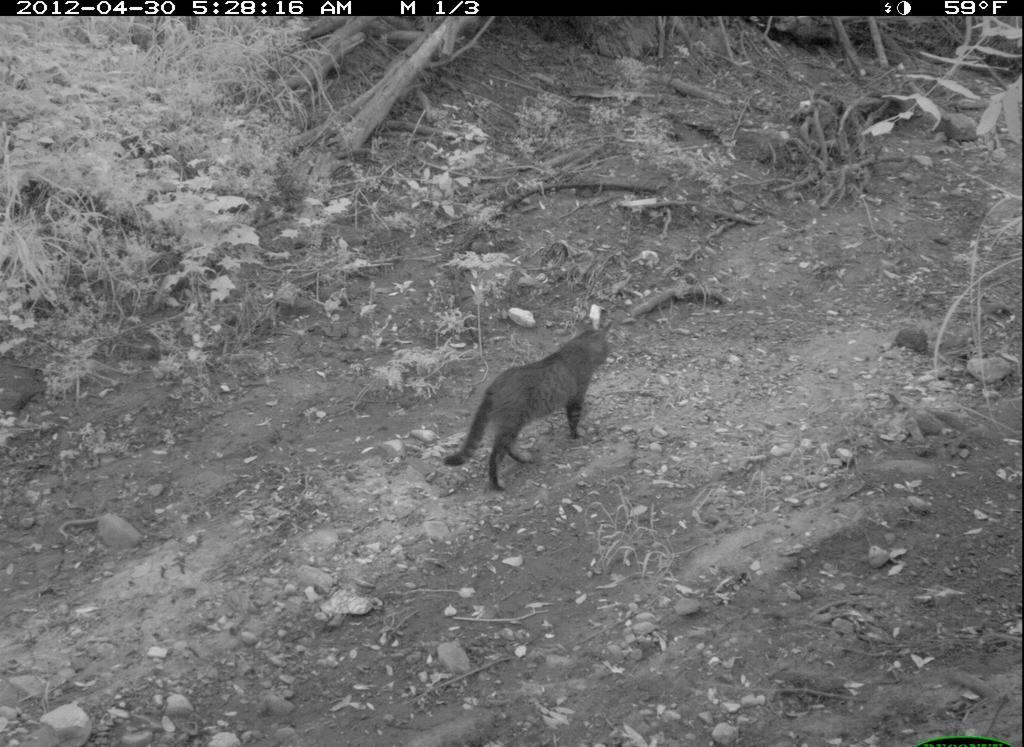cat: (442, 315, 617, 492)
